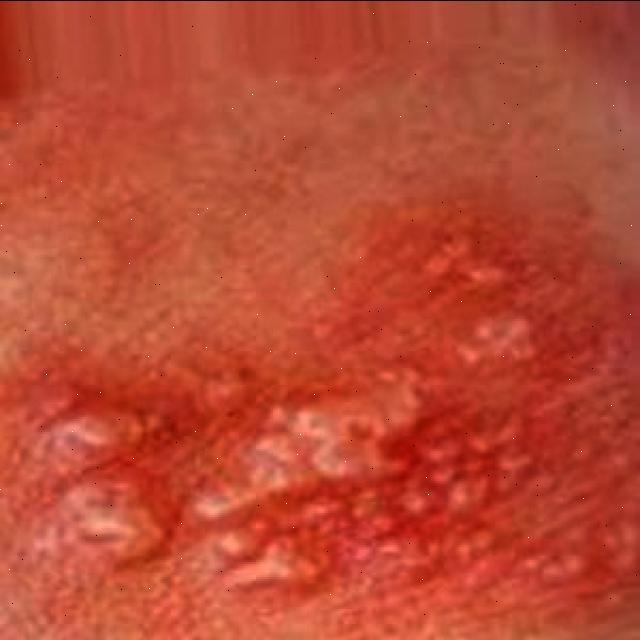Shingles: (33, 222, 622, 604)
